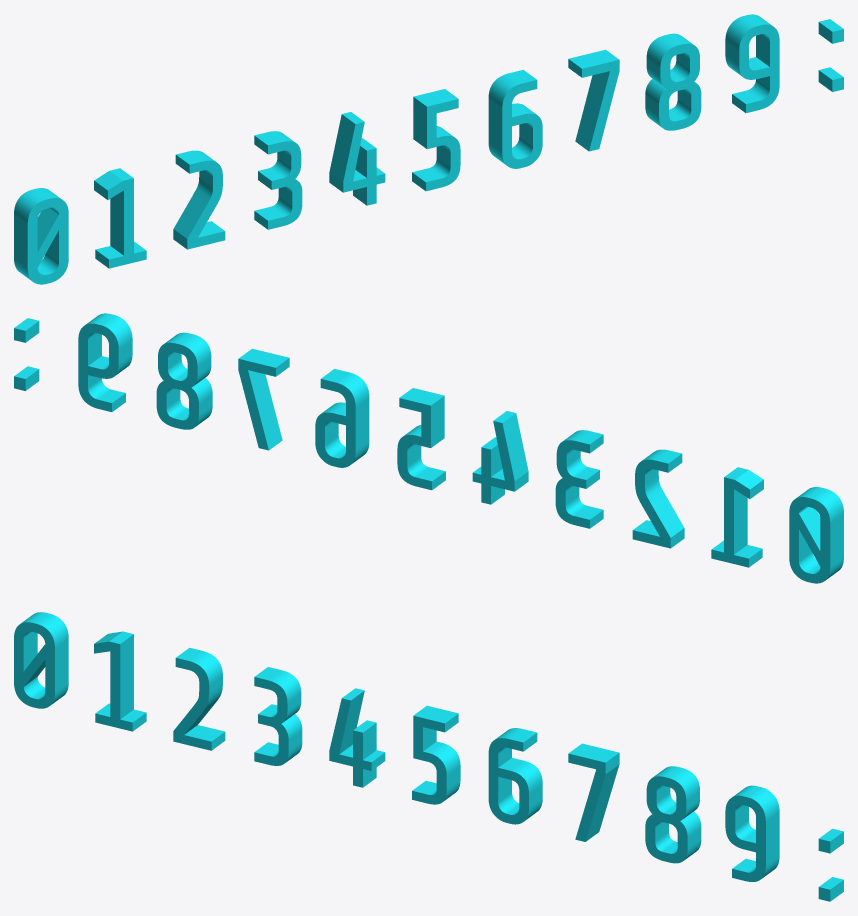
File: digits.glb
3 renders of one model, top to bottom at view 1: azimuth 30°, elevation 25°; view 2: azimuth 150°, elevation 25°; view 3: azimuth 330°, elevation 25°, orthographic.
Visible parts, largest first — view 1: Digit0, Digit8, Digit6, Digit9, Digit5, Digit2, Digit3, Digit4, Digit1, Digit7, Colon; view 2: Digit0, Digit8, Digit6, Digit9, Digit5, Digit2, Digit3, Digit4, Digit1, Digit7, Colon; view 3: Digit8, Digit0, Digit6, Digit9, Digit5, Digit3, Digit4, Digit2, Digit1, Digit7, Colon.
Part boxes in pixels (box(x1,y1,x2,y2)): Digit0: box(14, 188, 68, 284); Digit8: box(645, 33, 701, 130); Digit6: box(488, 69, 542, 168); Digit9: box(725, 14, 779, 112); Digit5: box(412, 89, 460, 191); Digit2: box(173, 150, 225, 249); Digit3: box(254, 131, 302, 229); Digit4: box(329, 112, 385, 205); Digit1: box(94, 168, 146, 268); Digit7: box(568, 49, 619, 151); Colon: box(818, 19, 843, 91); Digit0: box(789, 487, 843, 583); Digit8: box(156, 332, 212, 429); Digit6: box(315, 368, 369, 467); Digit9: box(78, 313, 132, 411); Digit5: box(397, 388, 445, 490); Digit2: box(632, 449, 684, 548); Digit3: box(555, 430, 603, 528); Digit4: box(472, 411, 528, 504); Digit1: box(711, 467, 763, 567); Digit7: box(238, 348, 289, 450); Colon: box(14, 318, 39, 390); Digit8: box(645, 766, 701, 863); Digit0: box(14, 612, 68, 708); Digit6: box(488, 728, 542, 824); Digit9: box(725, 785, 779, 881); Digit5: box(412, 705, 460, 804); Digit3: box(254, 667, 302, 765); Digit4: box(329, 688, 385, 787); Digit2: box(173, 647, 225, 750); Digit1: box(94, 631, 146, 731); Digit7: box(568, 743, 619, 841); Colon: box(818, 828, 843, 901).
Bounding box in the file's own units: 6.5 × 0.6422 × 0.19.
